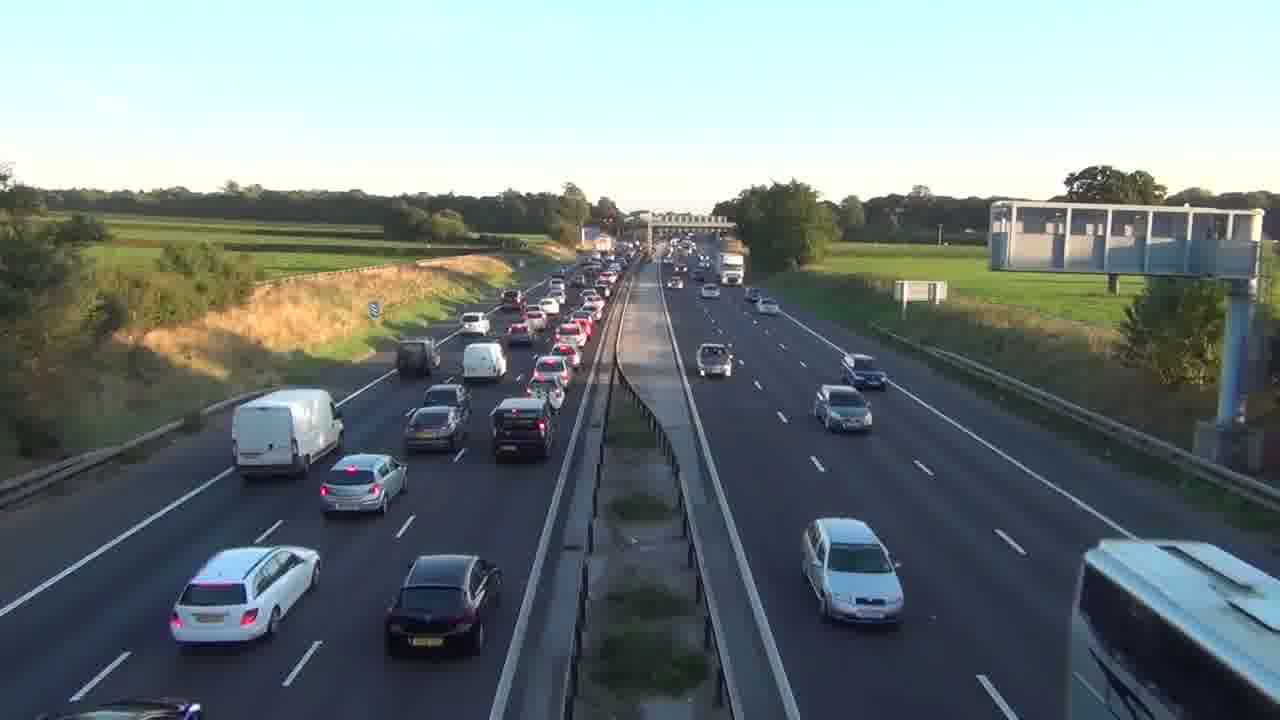bus: (1075, 538, 1279, 717)
car: (167, 543, 322, 647), (383, 553, 503, 658), (800, 516, 906, 626), (317, 452, 407, 517), (489, 396, 555, 462), (401, 404, 468, 454), (813, 384, 874, 434), (839, 353, 888, 391), (701, 284, 721, 298)
truck: (232, 387, 344, 480), (462, 340, 506, 382)
